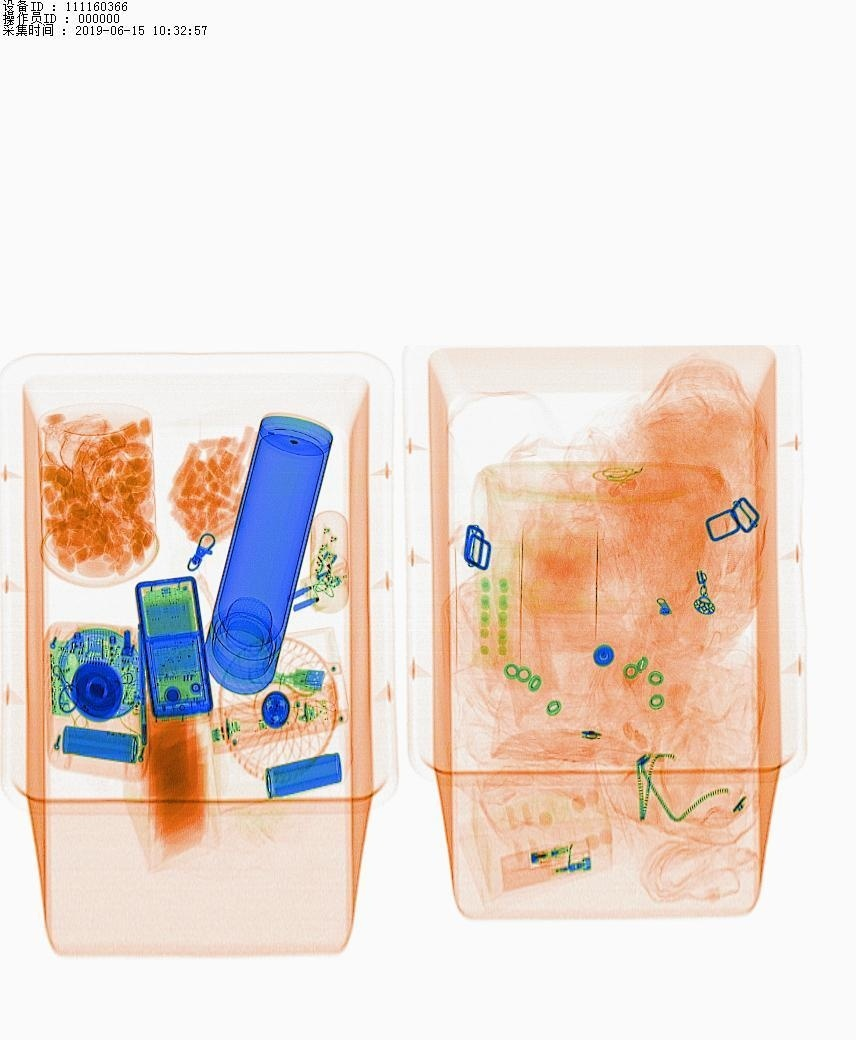NonmetallicFire: (502, 823, 592, 893)
